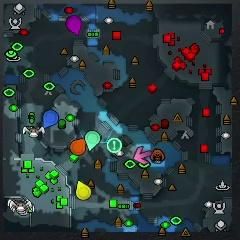Other: (107, 138, 122, 154)
p1: (43, 110, 59, 129)
p2: (85, 131, 101, 151)
p3: (65, 16, 83, 36)
p4: (76, 180, 90, 200)
p5: (70, 138, 86, 156)
x1: (134, 147, 152, 164)
